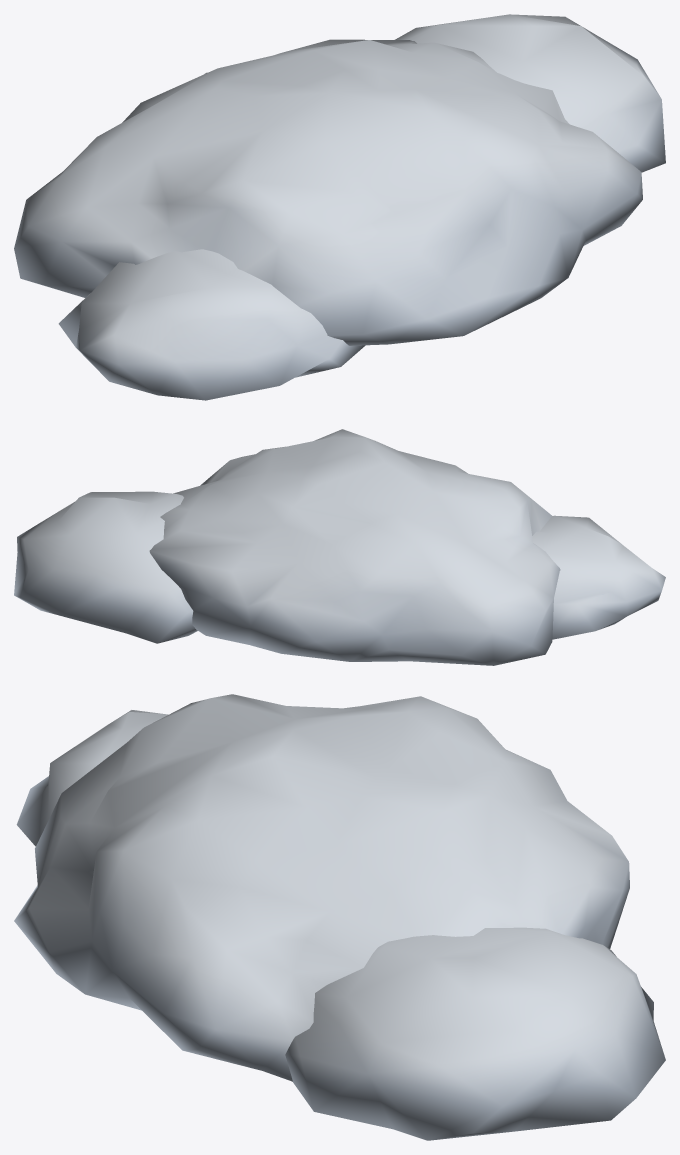
File: snow_pile_a.glb
3 views of the same model, one above another, from view 1: azimuth 30°, elevation 25°; view 2: azimuth 150°, elevation 25°; view 3: azimuth 270°, elevation 25° (orthographic). The views are drawn at different scales.
Visible parts, largest first — view 1: p1; view 2: p1; view 3: p1.
Boxes of the visible parts, bbox=[...] form: p1: bbox=[14, 14, 665, 400]; p1: bbox=[14, 429, 665, 665]; p1: bbox=[14, 694, 665, 1140].
Size of the model in its own units: 2.11 by 0.492 by 1.45.
1 material, 1 textured.
